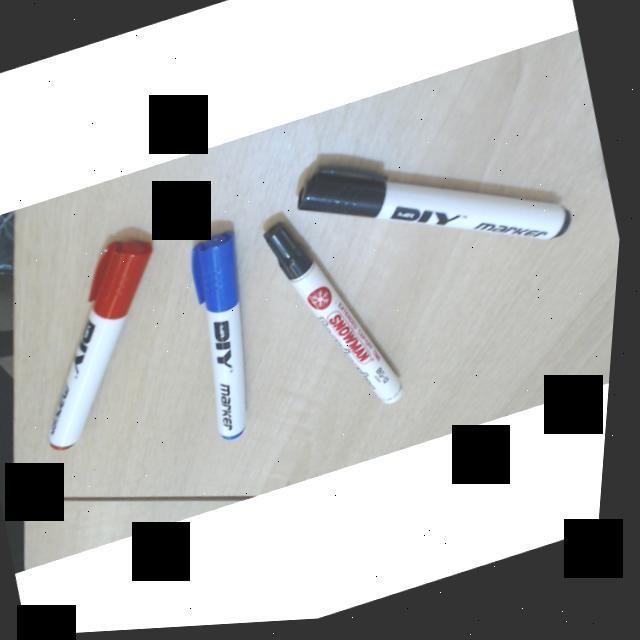marker: (302, 152, 583, 257), (273, 225, 407, 410), (55, 237, 150, 447), (188, 230, 262, 445)
